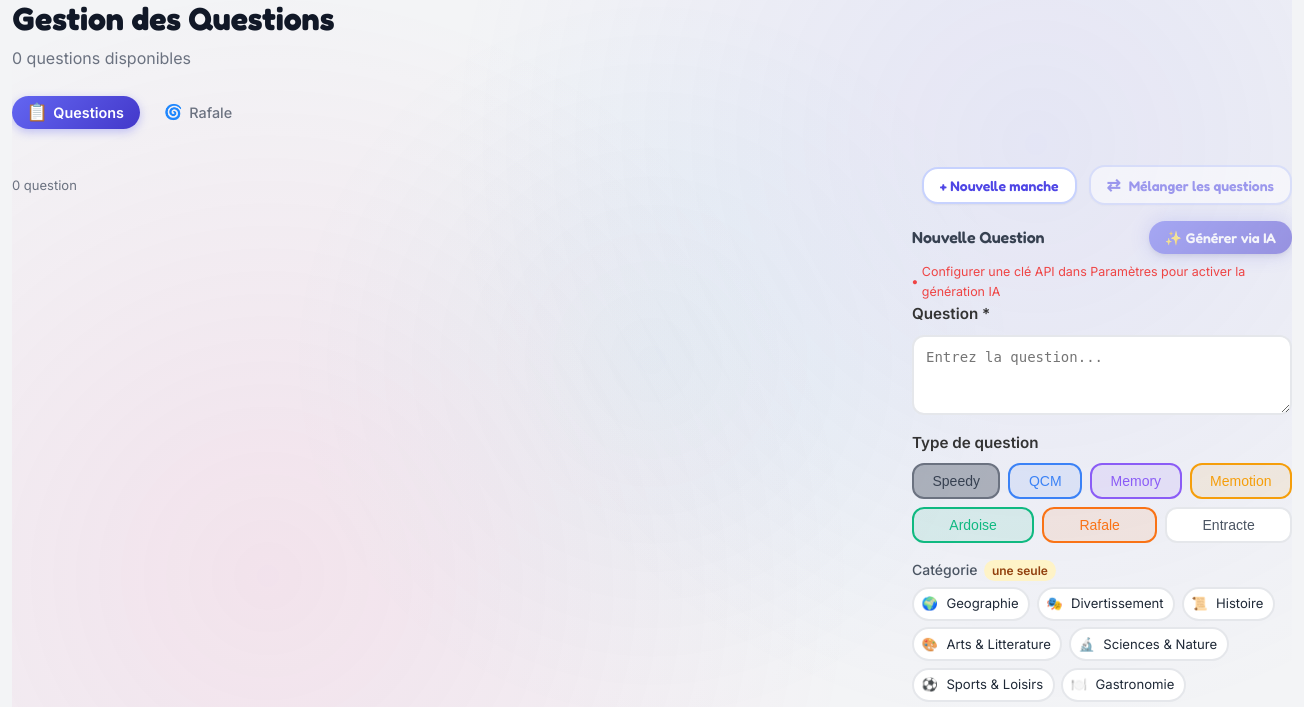
Éditeur — champ « Pénalité mauvaise réponse » (#254, scénario 20) › Critical — nouvelle question QCM : champ présent, valeur 0 « par défaut », signe « − » fixe
The image size is (1304, 707).
Step 1. Click the button "QCM" → (1045, 481), box [1008,463,1082,499]
(page scrolled)
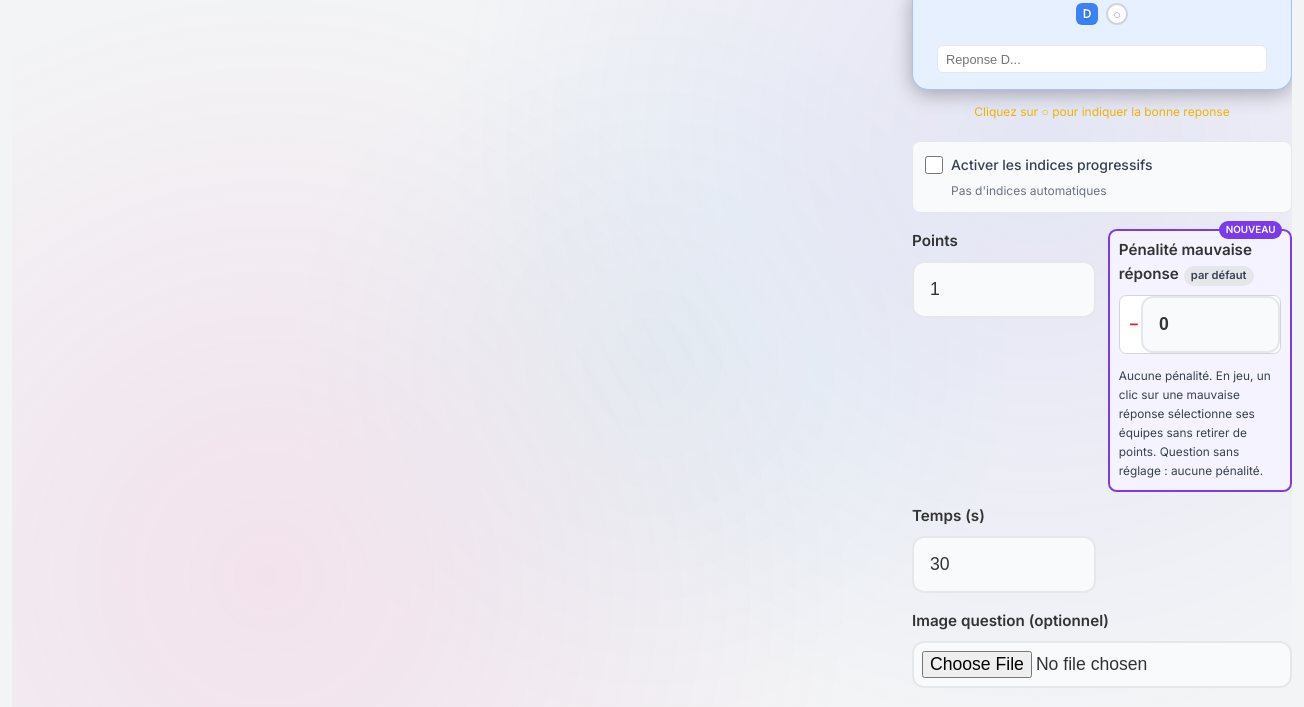
Result: the number field labelled "Pénalité mauvaise réponse par défaut" holds "0" at [1141,296,1280,353]
Result: the element labelled "Pénalité mauvaise réponse" shows "par défaut" at [1191,268,1247,282]
